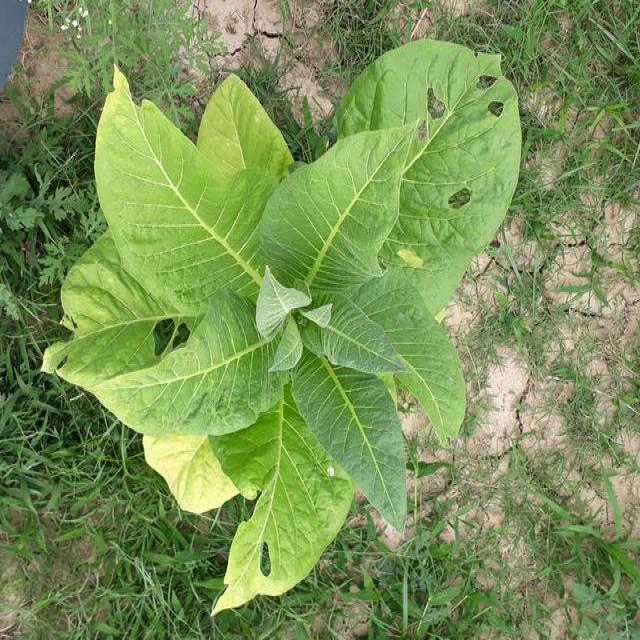crop: (58, 42, 508, 587)
